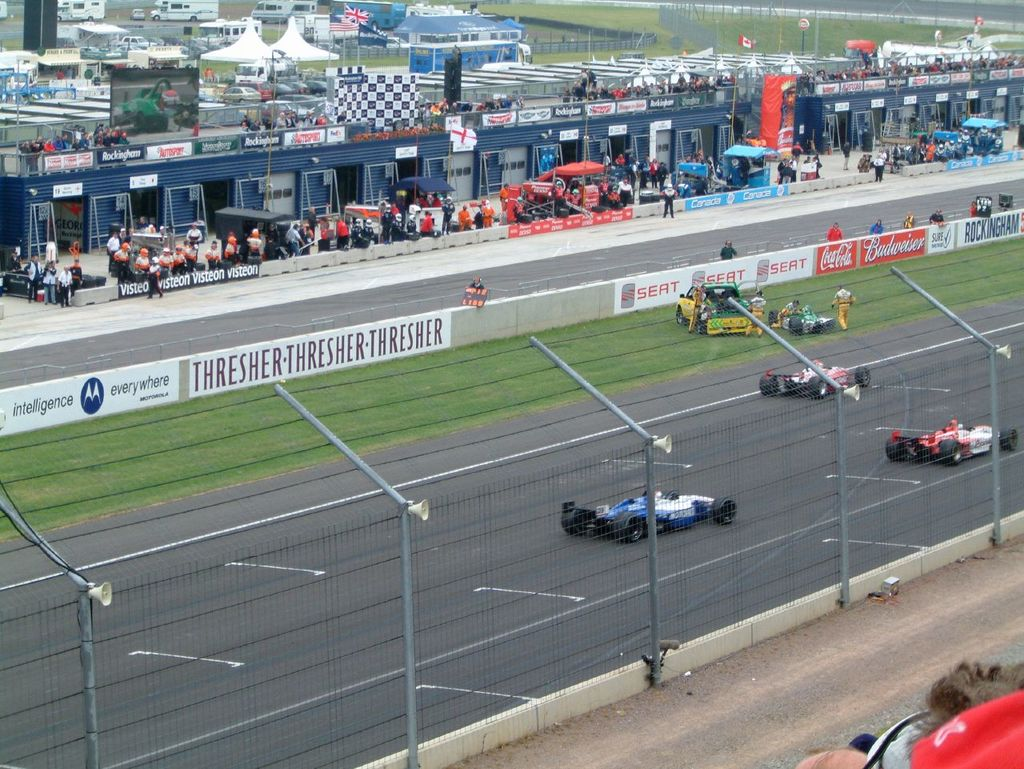Car: (562, 486, 739, 534)
